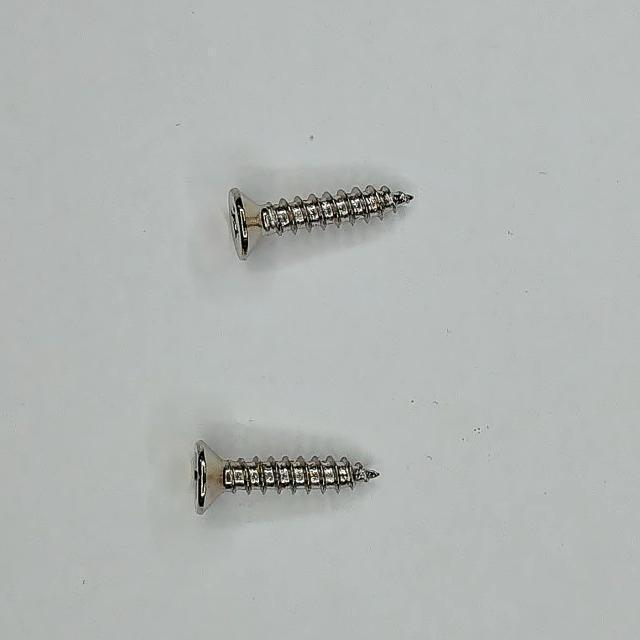Screw: (229, 185, 414, 260), (194, 442, 380, 514)
